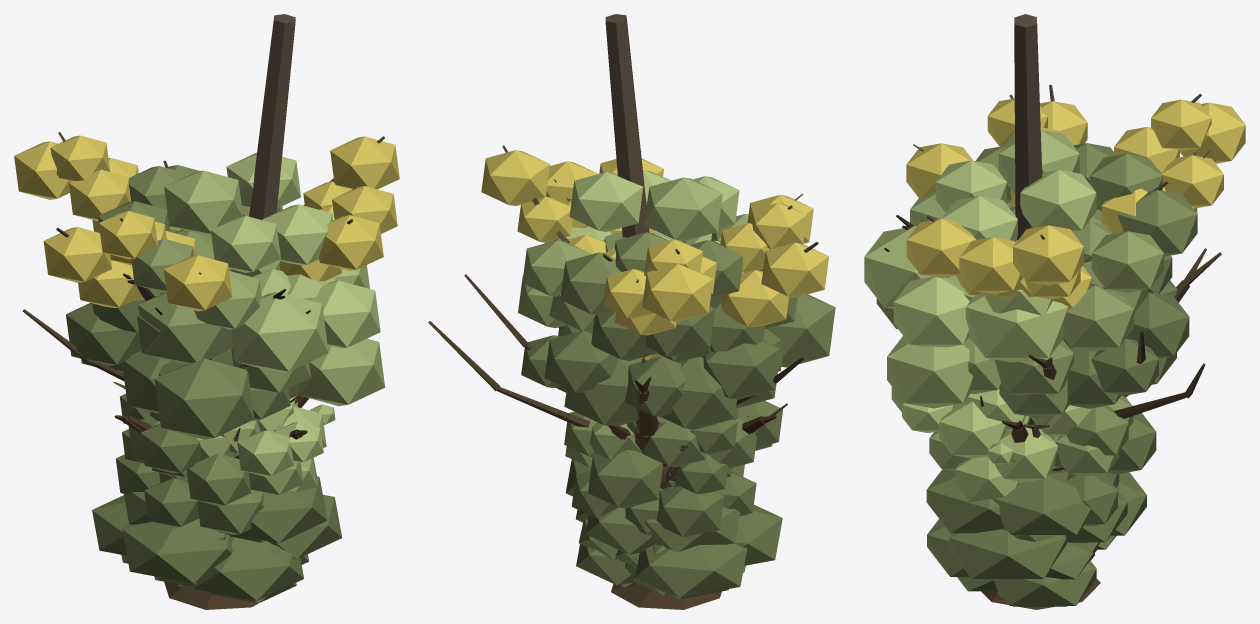
The model's file is trees-cerrado.glb.
The picture shows the model from 3 angles, left to right: view 1: azimuth 30°, elevation 25°; view 2: azimuth 150°, elevation 25°; view 3: azimuth 270°, elevation 25°; orthographic projection. The views are drawn at different scales.
Visible parts, largest first — view 1: aroeira, ipe-flowering, ipe, bush-cerrado-head-b, barbatimao, cagaita, buriti-dead, pequi-dead, bush-cerrado-head-a, barbatimao-dead, bush-cerrado-waist-b; view 2: ipe, ipe-flowering, aroeira, cagaita, bush-cerrado-head-b, barbatimao, pequi-dead, buriti-dead, bush-cerrado-waist-b; view 3: ipe, ipe-flowering, aroeira, bush-cerrado-head-b, cagaita, barbatimao, buriti-dead, pequi-dead, bush-cerrado-waist-b.
Part boxes in pixels (x1,y1,x2,y2): aroeira: (81,228,385,439); ipe-flowering: (14,135,399,311); ipe: (66,152,336,404); bush-cerrado-head-b: (92,458,342,600); barbatimao: (119,393,335,506); cagaita: (115,396,317,535); buriti-dead: (249,14,295,219); pequi-dead: (23,204,304,609); bush-cerrado-head-a: (175,518,275,551); barbatimao-dead: (114,395,308,458); bush-cerrado-waist-b: (121,544,296,603); ipe: (518,170,796,417); ipe-flowering: (481,150,828,359); aroeira: (544,215,835,429); cagaita: (565,418,756,537); bush-cerrado-head-b: (565,459,782,597); barbatimao: (564,401,782,494); pequi-dead: (428,274,804,609); buriti-dead: (605,14,649,237); bush-cerrado-waist-b: (578,519,745,599); ipe: (910,129,1197,395); ipe-flowering: (906,98,1245,308); aroeira: (864,202,1176,417); bush-cerrado-head-b: (926,469,1146,605); cagaita: (955,389,1156,525); barbatimao: (891,386,1128,470); buriti-dead: (1014,14,1051,471); pequi-dead: (981,248,1221,609); bush-cerrado-waist-b: (957,535,1116,606).
Bounding box in the file's own units: 5.22 × 8 × 4.66.
